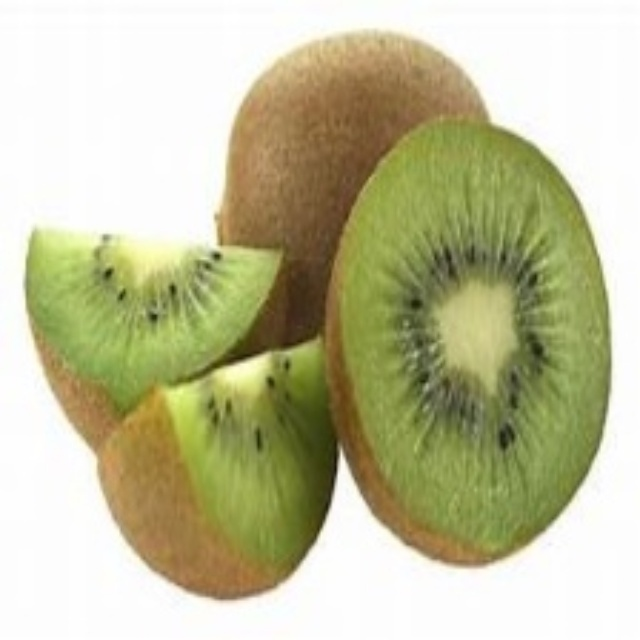kiwi: (330, 118, 605, 572), (228, 34, 494, 329), (94, 361, 352, 605), (28, 222, 290, 449)
